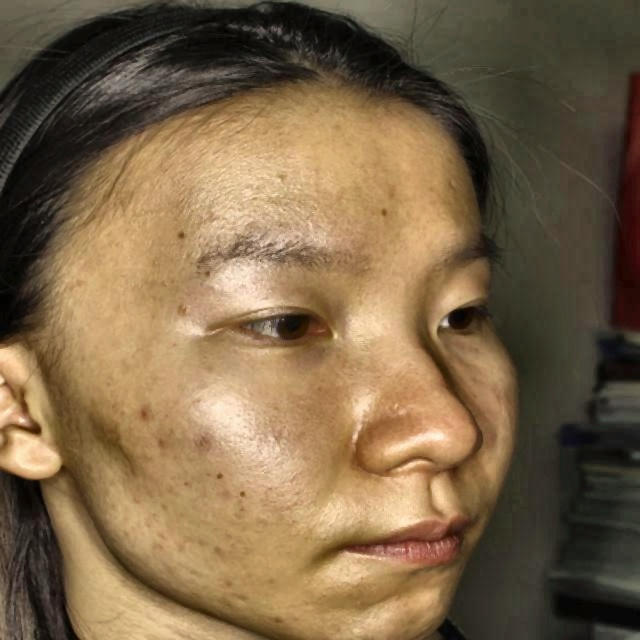comedone: (129, 394, 155, 428)
